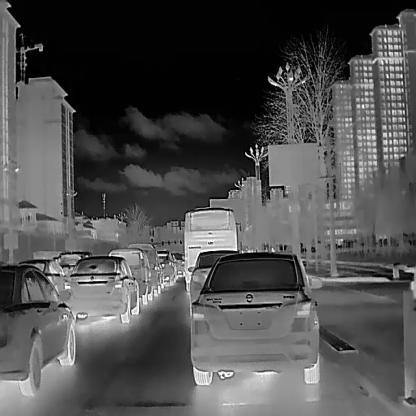bus: (183, 205, 239, 294)
car: (185, 251, 322, 387), (0, 262, 76, 395), (62, 252, 140, 323), (185, 249, 242, 315), (107, 247, 152, 305), (18, 257, 68, 294), (127, 243, 162, 292)
